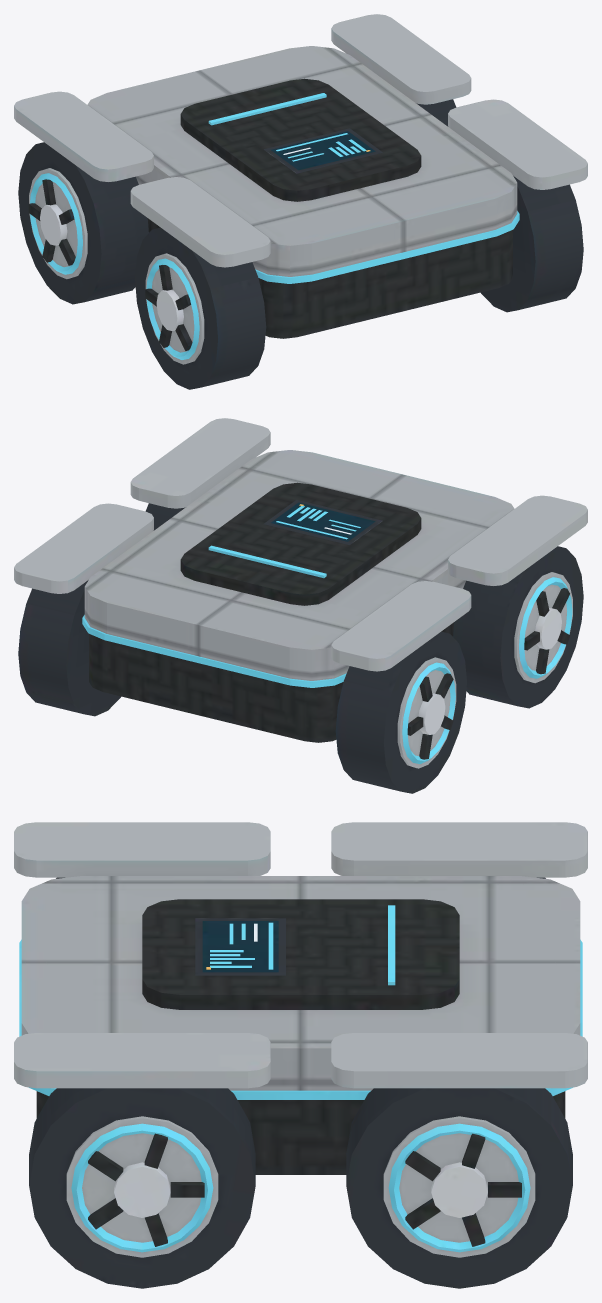
The model's file is enterprise_wheel.glb.
3 renders of one model, top to bottom at view 1: azimuth 30°, elevation 25°; view 2: azimuth 150°, elevation 25°; view 3: azimuth 270°, elevation 25°, orthographic. The views are drawn at different scales.
Visible parts, largest first — view 1: te_enterprise_wheel; view 2: te_enterprise_wheel; view 3: te_enterprise_wheel.
Boxes of the visible parts, left/top/right/bottom form: te_enterprise_wheel: left=14, top=14, right=587, bottom=389; te_enterprise_wheel: left=14, top=418, right=587, bottom=793; te_enterprise_wheel: left=14, top=822, right=587, bottom=1288.
Bounding box in the file's own units: 0.8 × 0.327 × 0.76.
Materials: 1 (1 with a texture image).
